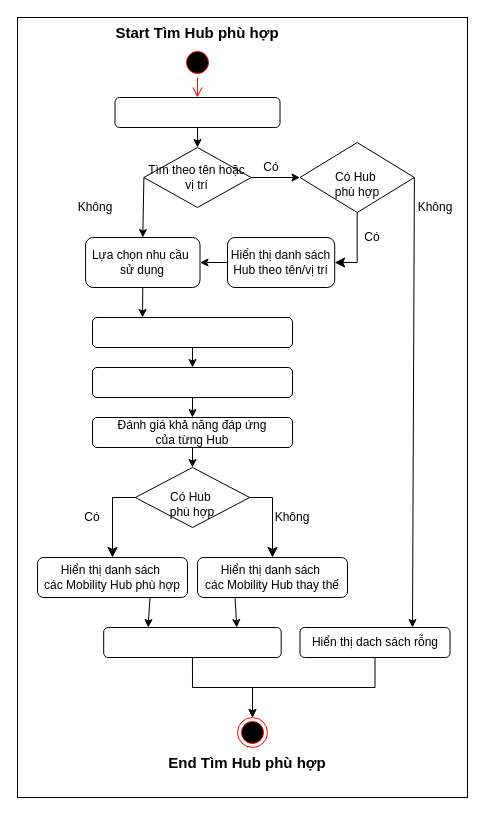
Image size: 485x815. Some labels were removed from this diagram. The shapes that lost their labels are listed below. From the top down, each one's centre as x and y in pixels, then its label:
point 197,112: TÌm Mobility Hub
point 192,332: Lấy danh sách các Mobility Hub tương ứng
point 192,382: Kiểm tra trạng thái hiện tại các Hub
point 192,642: Xem danh sách các Hub và lựa chọn Hub phù hợp
